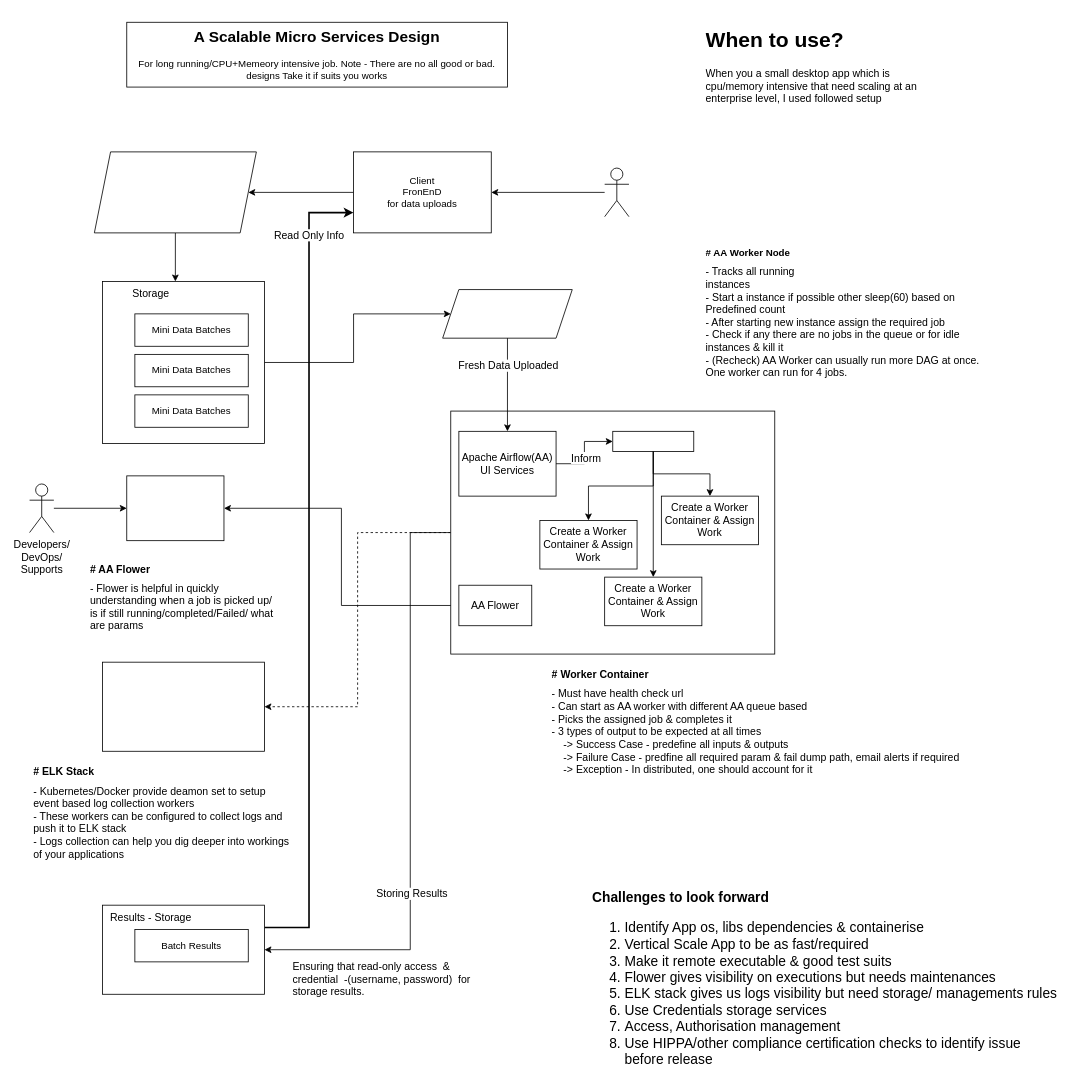
This 1081x1089 diagram has some shape labels left out. Each missing label, with the centre of its shape:
"AA Flower UI for running Worker instances" goes at point (175, 508).
"AA Workers" goes at point (653, 441).
"Client" goes at point (616, 192).
"ELK Stack (Logs Collecitons)" goes at point (183, 706).
"Event Based" goes at point (507, 313).
"Firewall + Security Checks + Data Validity Check" goes at point (175, 192).
